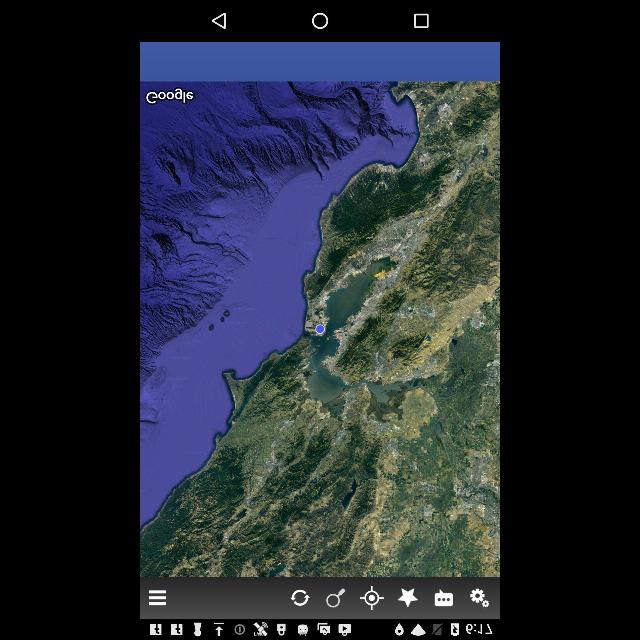icon: (358, 584, 384, 612), (394, 586, 420, 610), (324, 588, 346, 608), (434, 588, 454, 608), (470, 588, 490, 608), (310, 10, 330, 30), (290, 588, 310, 606), (210, 11, 228, 31), (148, 589, 167, 606), (414, 12, 430, 30)
map: (140, 82, 500, 576)
panel: (140, 577, 500, 619), (141, 0, 499, 41)
uppertaskbar: (140, 618, 499, 639)
